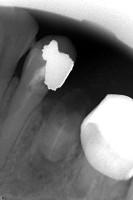Furcation Involvement: (10, 149, 67, 197)
